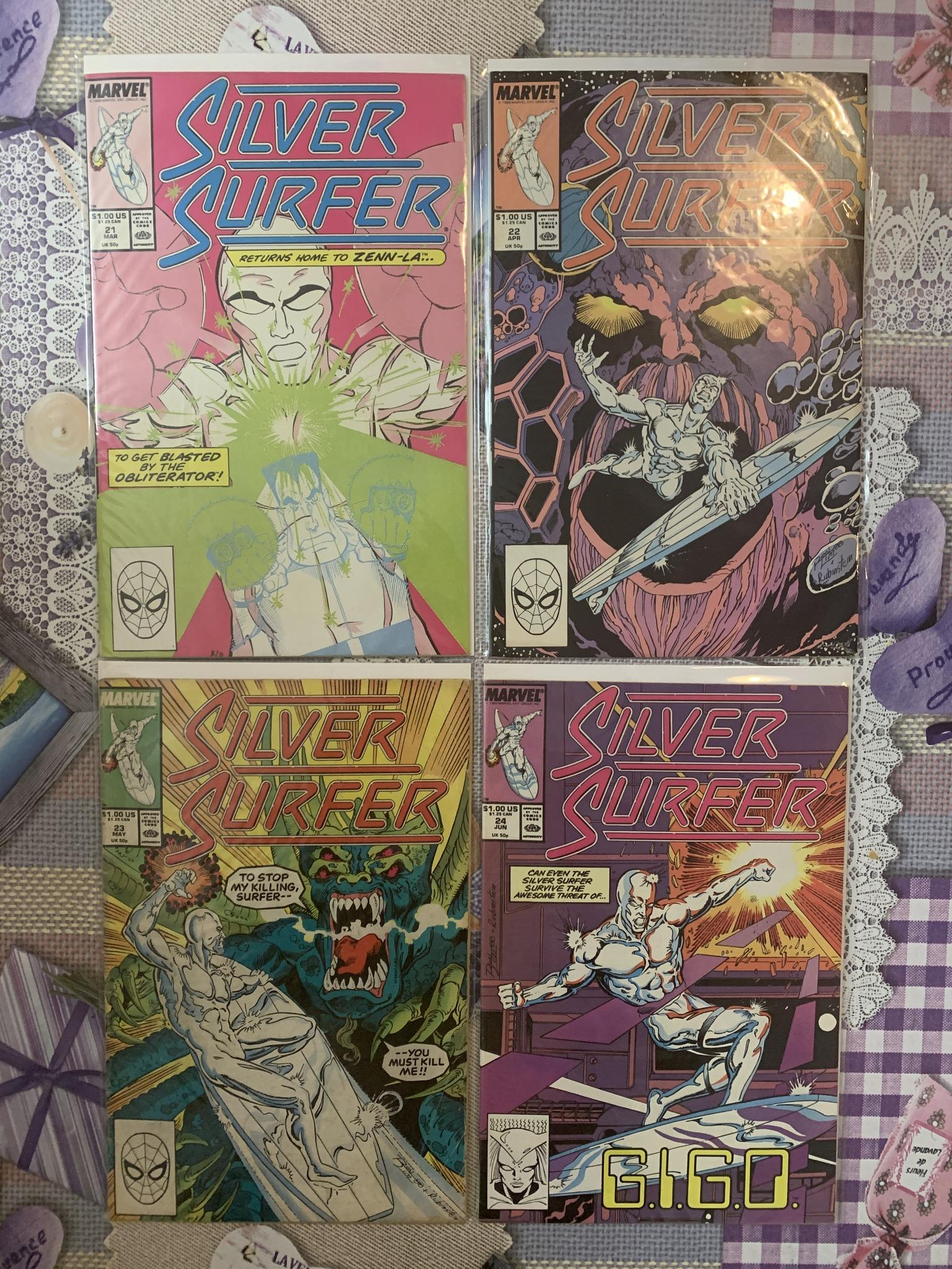comic: (85, 52, 473, 659), (481, 58, 866, 661), (99, 662, 472, 1222), (479, 664, 849, 1224)
